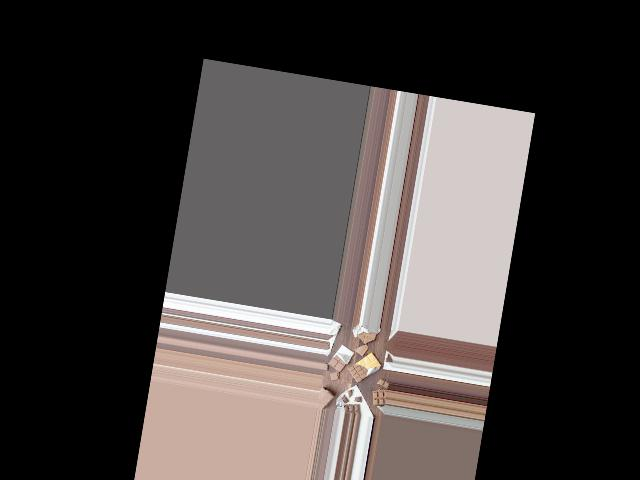chocolate: (325, 344, 355, 373)
